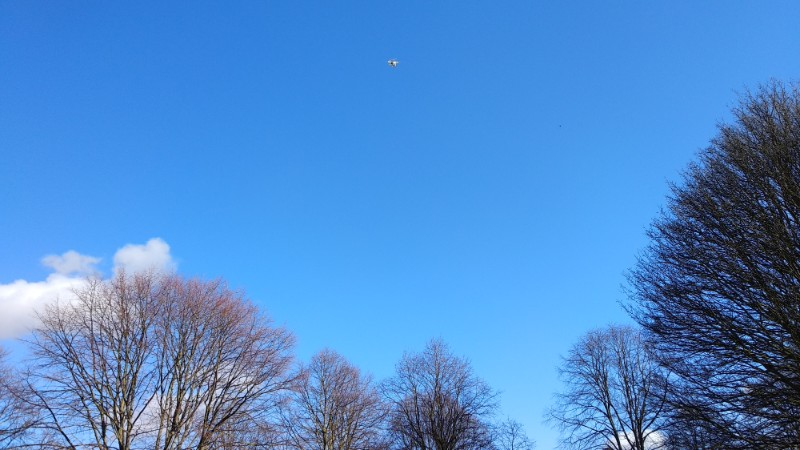drone: (387, 58, 399, 69)
